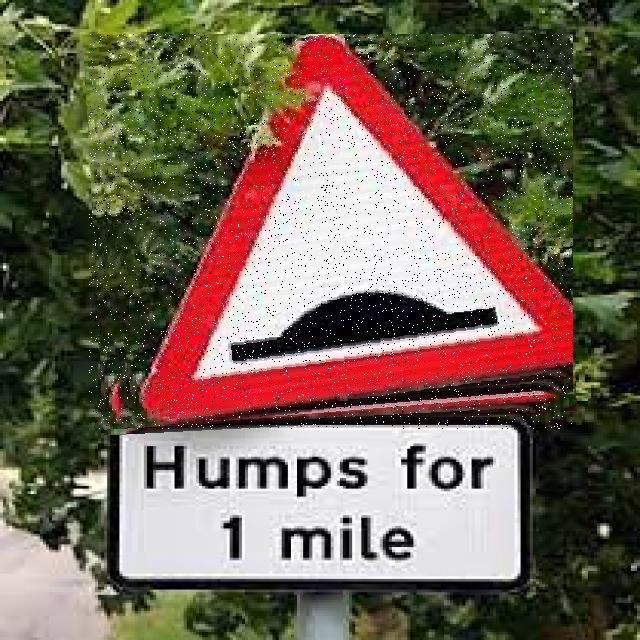hump: (89, 34, 573, 429)
